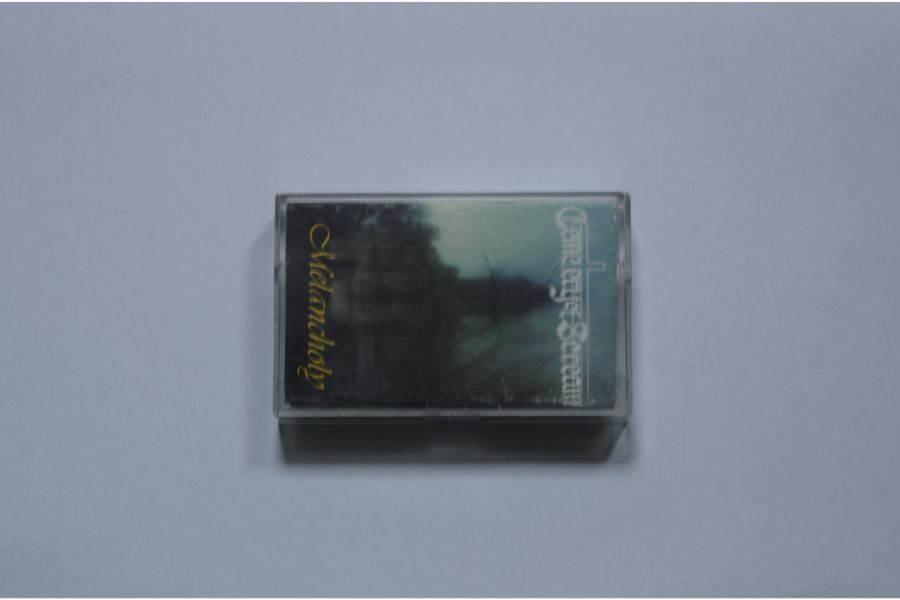album: (273, 189, 634, 427)
